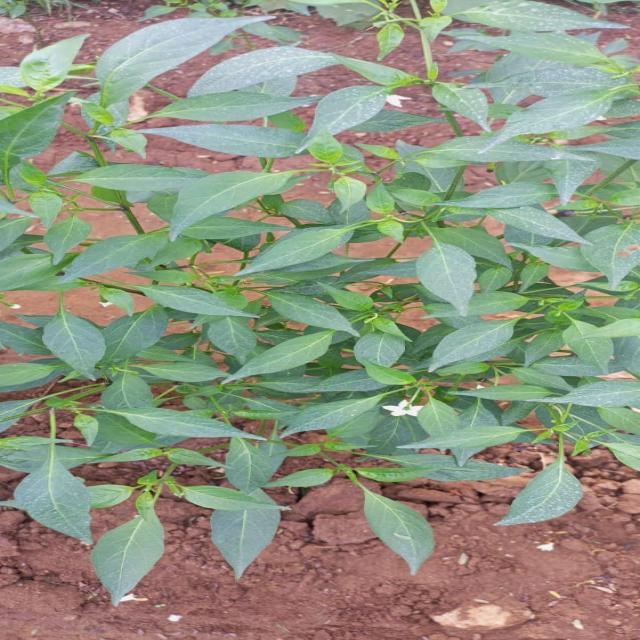Mosaic_virus: (0, 0, 640, 607)
